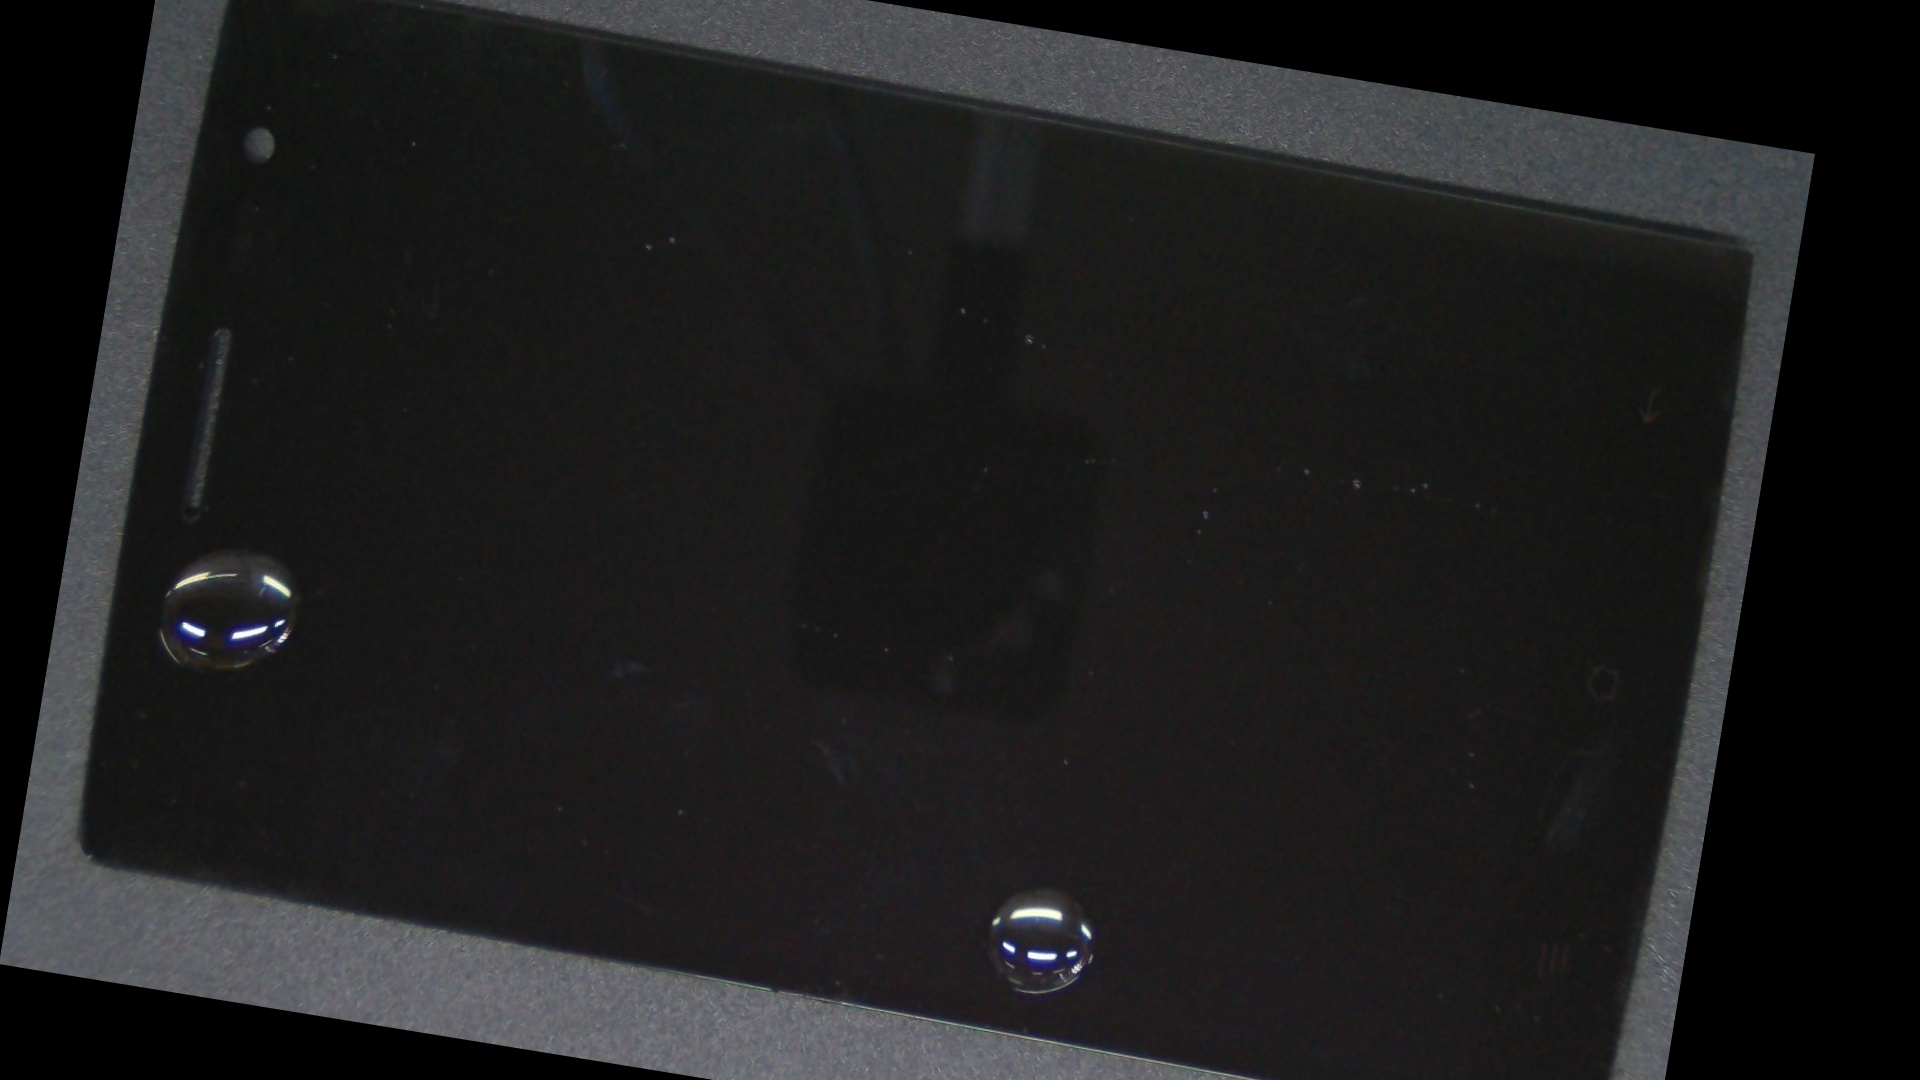oil: (505, 388, 1621, 1080), (107, 219, 382, 881)
